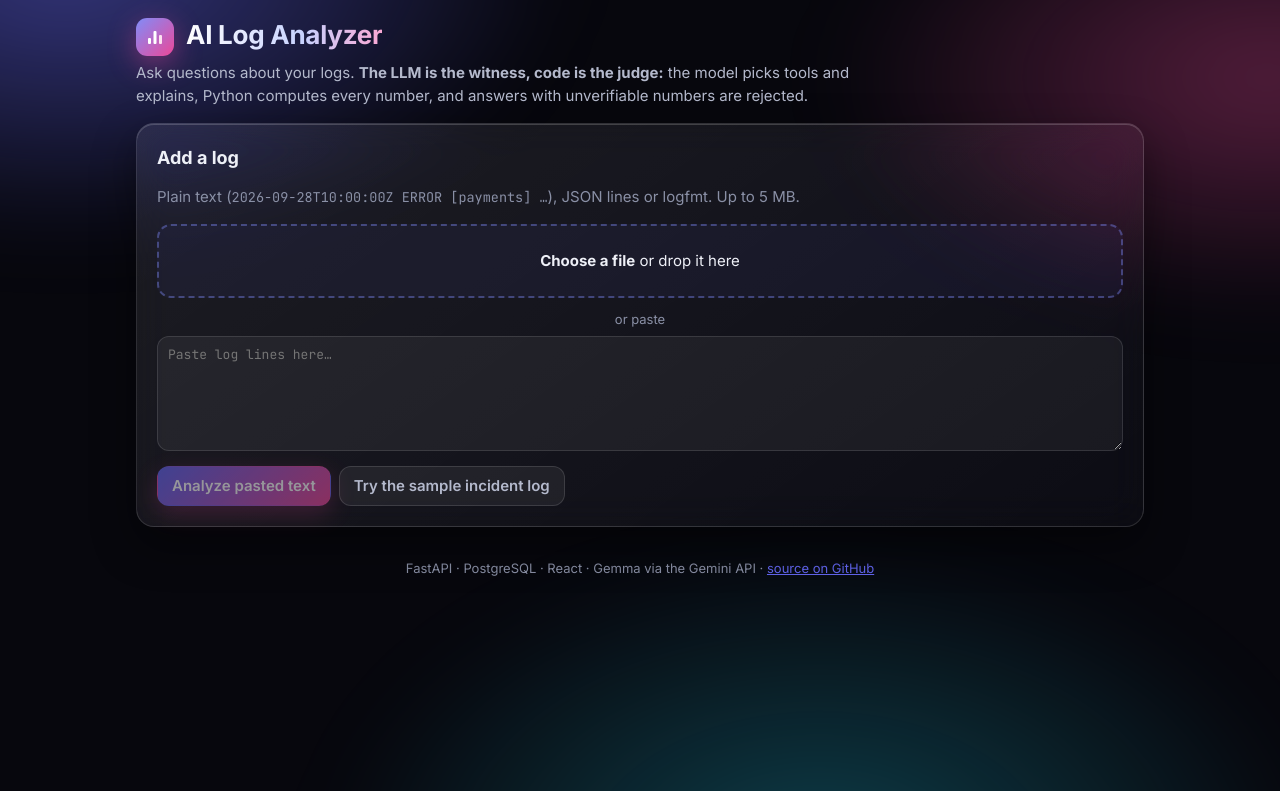
App › shows API errors such as rate limiting
Click the button "Try the sample incident log".
click(452, 486)  # box [339,466,565,506]
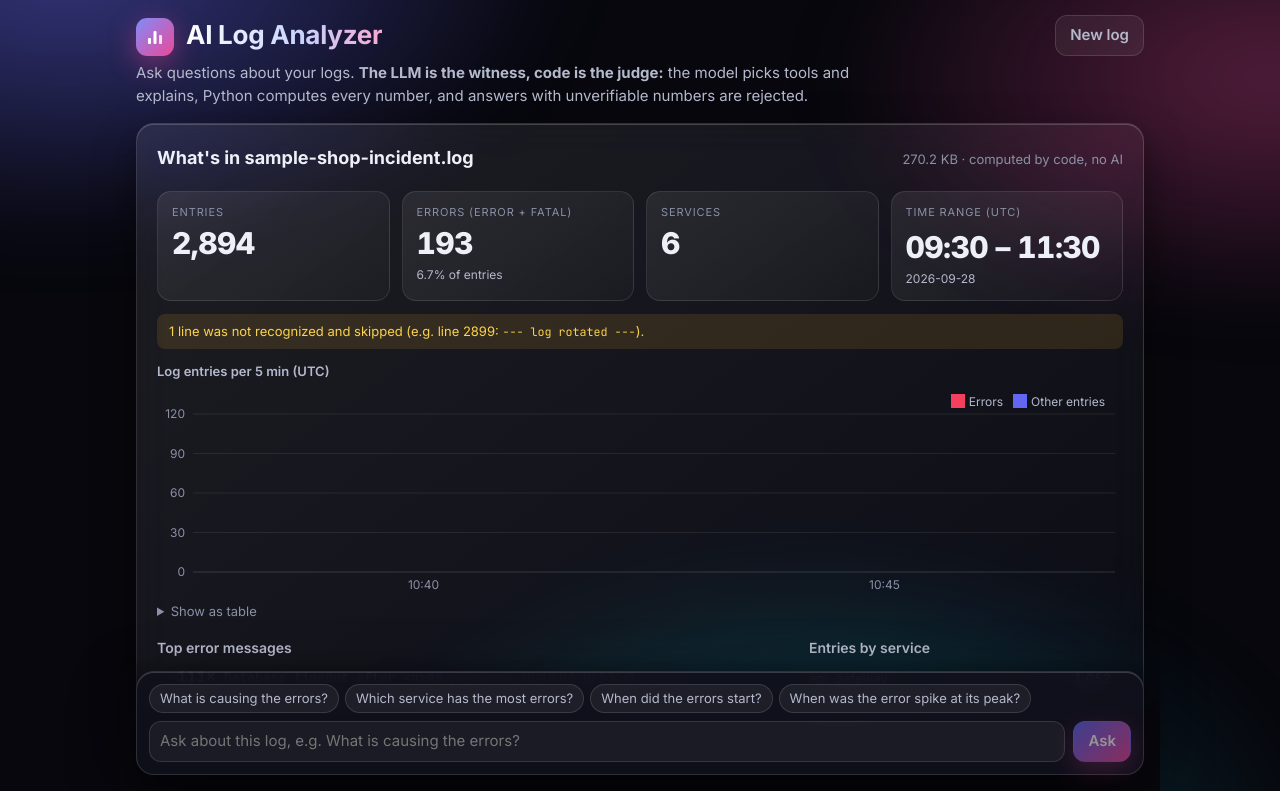
Now the heading "What's in sample-shop-incident.log" is shown, box [157,144,474,171]
Type "errors?" into the field named "question about the log".
click(607, 742); type("errors?")  # box [149,722,1065,762]
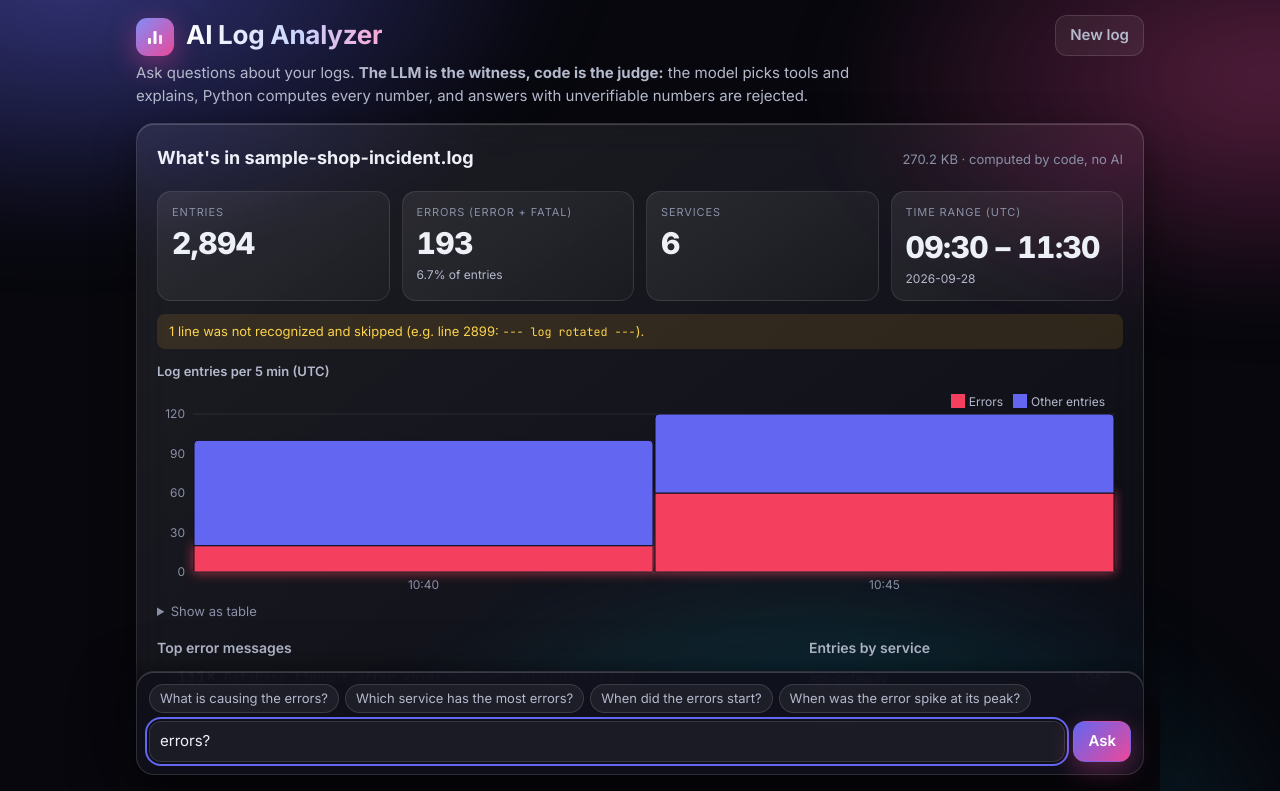
Click the button "Ask".
click(1102, 742)  # box [1073,722,1131,762]
(page scrolled)
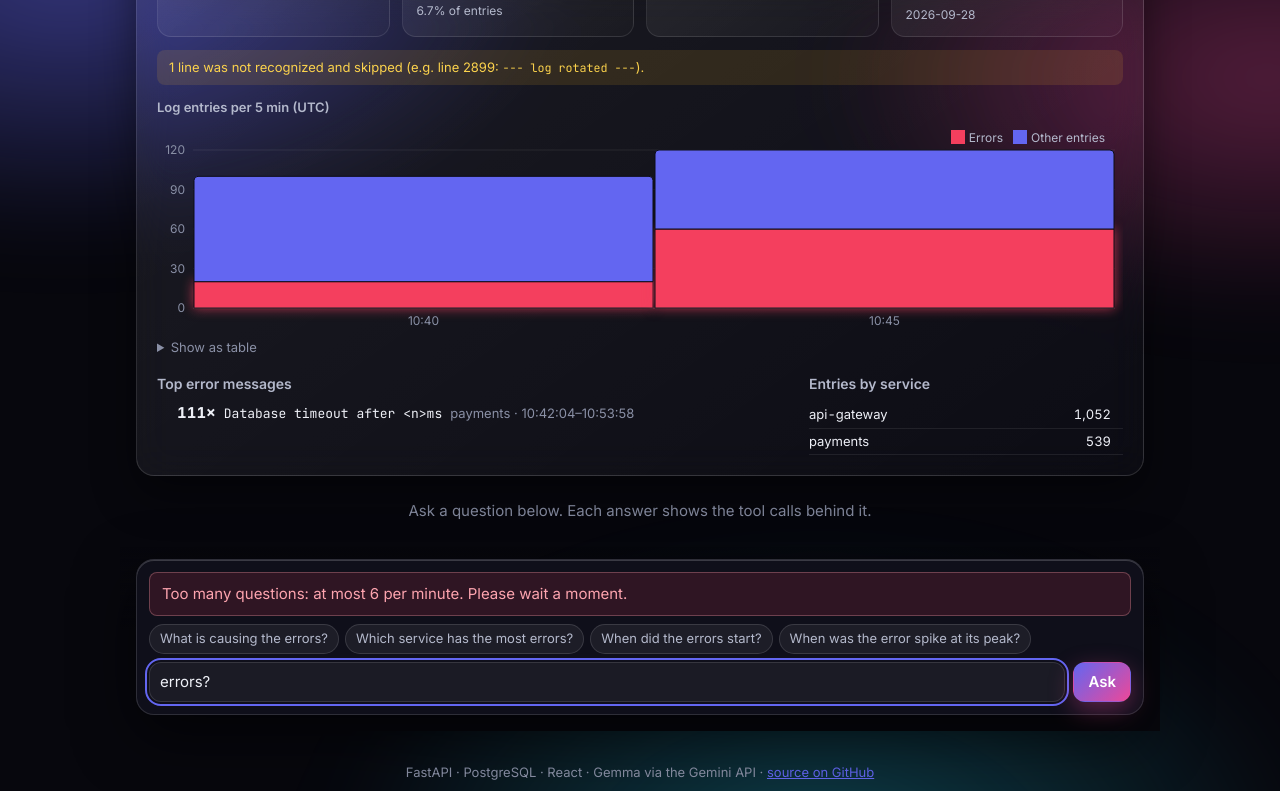
Now the button "Ask" is enabled, box [1073,662,1131,702]
Now the message "Too many questions: at most 6 per minute. Please wait a moment." is shown, box [149,572,1131,616]
